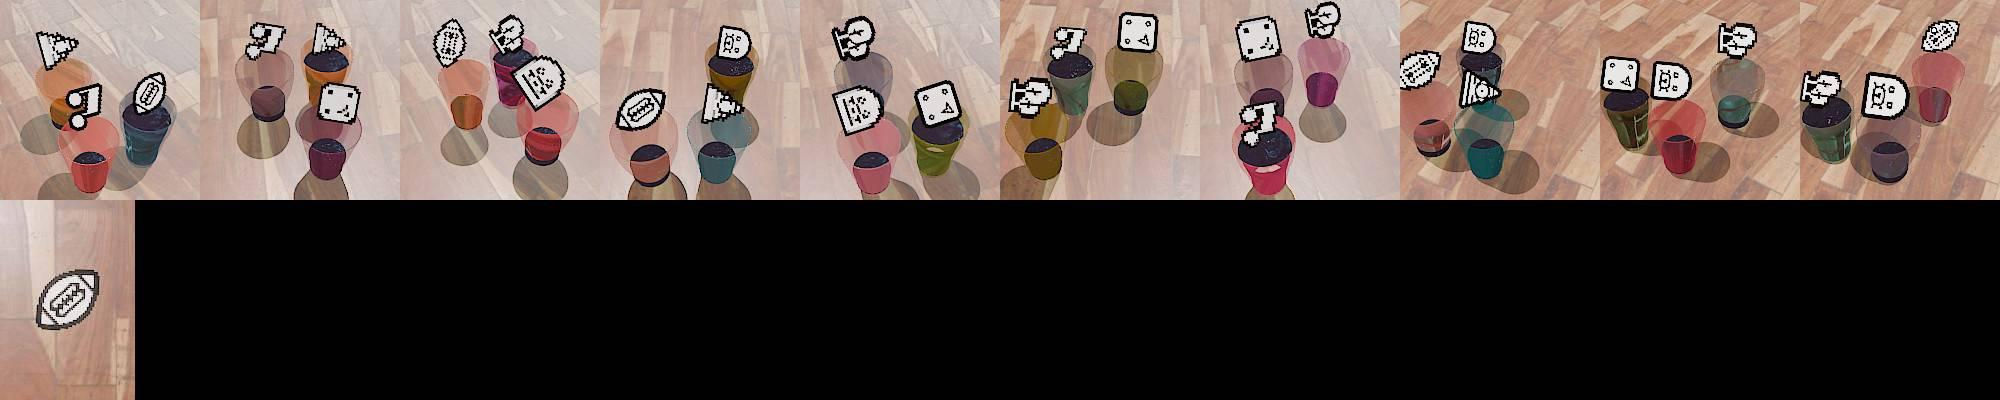icon: (32, 268, 101, 332), (511, 56, 568, 112), (830, 84, 883, 136), (912, 79, 962, 130), (1861, 73, 1908, 121), (615, 88, 667, 131), (1235, 15, 1281, 62), (1239, 98, 1281, 149), (830, 17, 875, 62), (64, 83, 103, 131), (316, 82, 361, 124), (1008, 75, 1052, 117), (431, 18, 467, 70), (700, 82, 742, 125), (34, 31, 79, 71), (1117, 11, 1158, 54), (1458, 66, 1499, 108), (1651, 60, 1693, 101), (1798, 70, 1843, 108), (1399, 48, 1439, 90), (245, 20, 288, 59), (1717, 22, 1758, 61), (490, 14, 527, 57), (1601, 56, 1642, 94), (713, 23, 751, 62), (1304, 0, 1342, 39), (133, 71, 167, 115), (1048, 24, 1088, 61), (1921, 19, 1962, 55), (1460, 20, 1496, 57), (310, 22, 347, 56)
